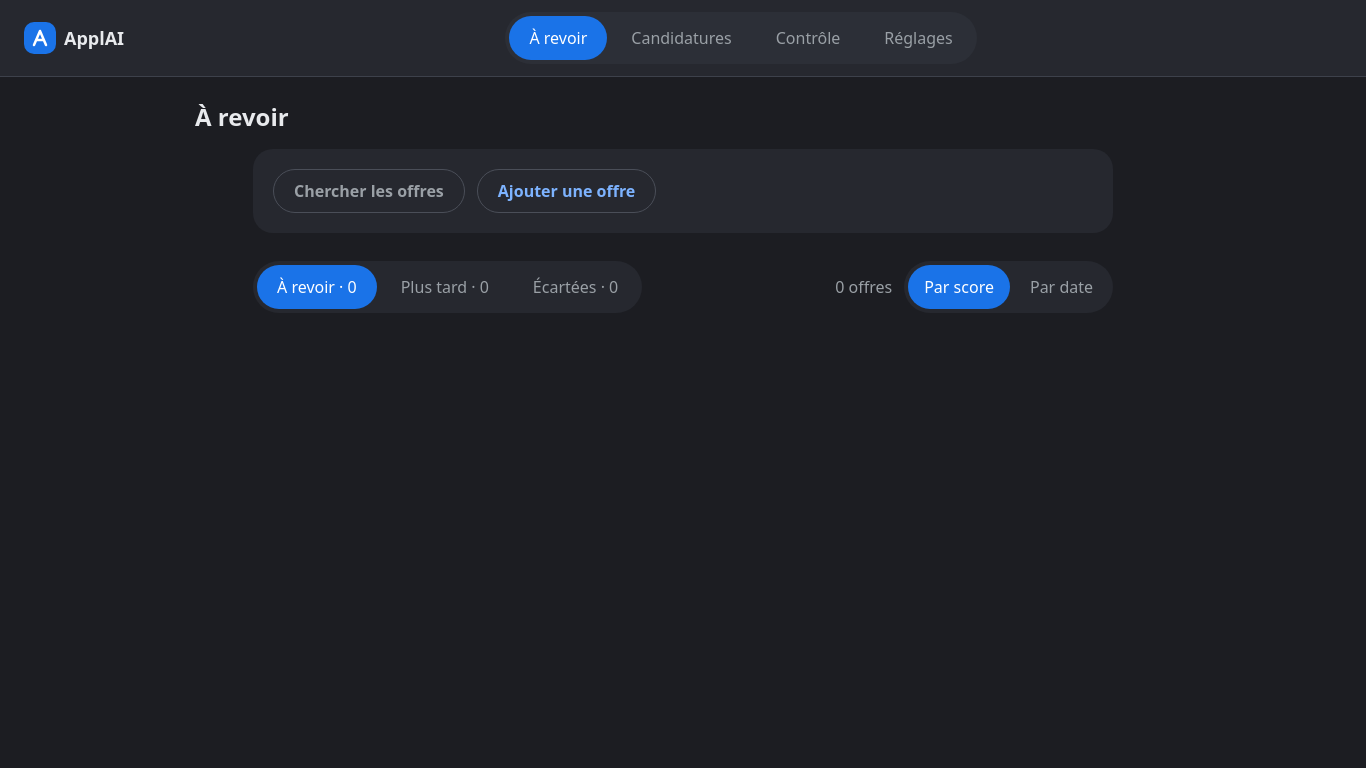
it: the entry point on the Applications dashboard › gives only a drafted row a Correct button
What coordinates should you click on to do the following:
click the button "Candidatures"
I would click on:
 (682, 38)
Its box is x1=611 y1=16 x2=752 y2=60.
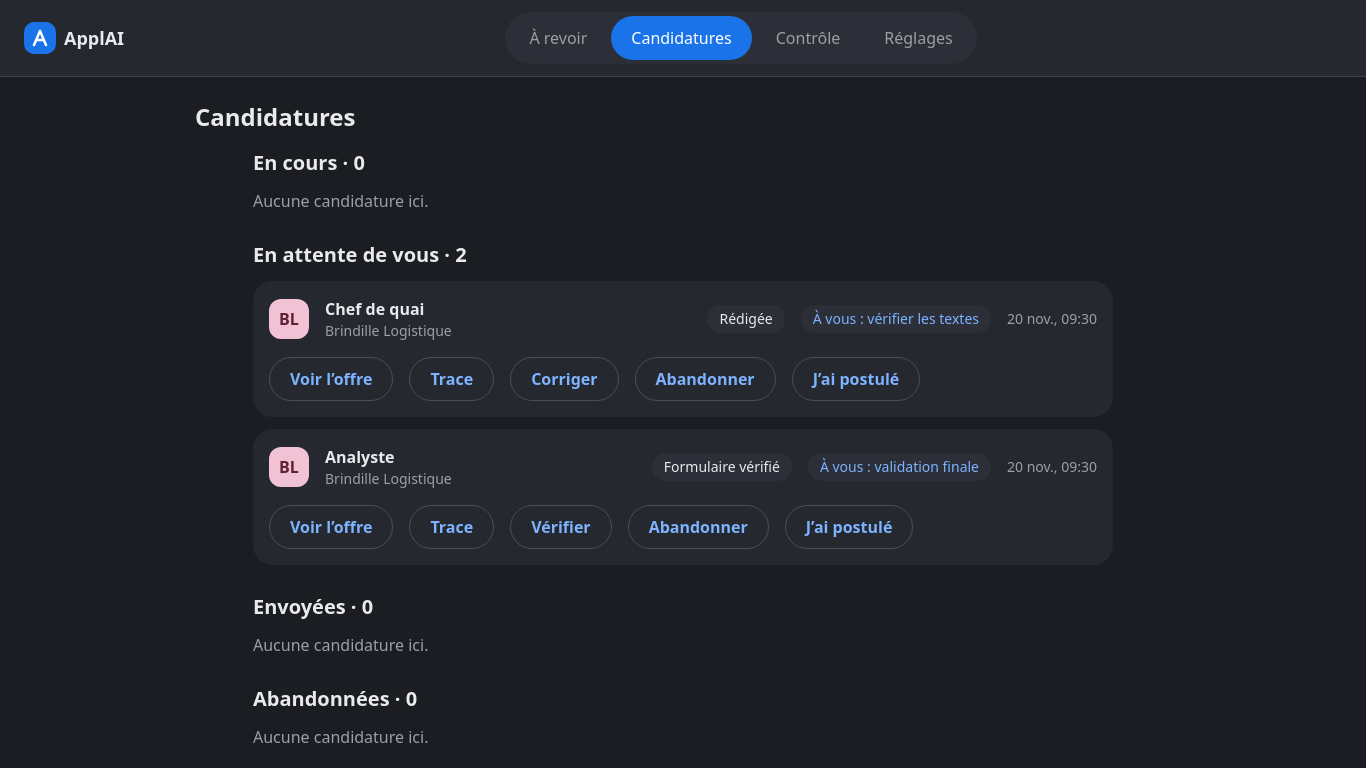
Check: the number of buttons "Corriger" is 1, box x1=510 y1=357 x2=618 y2=401
